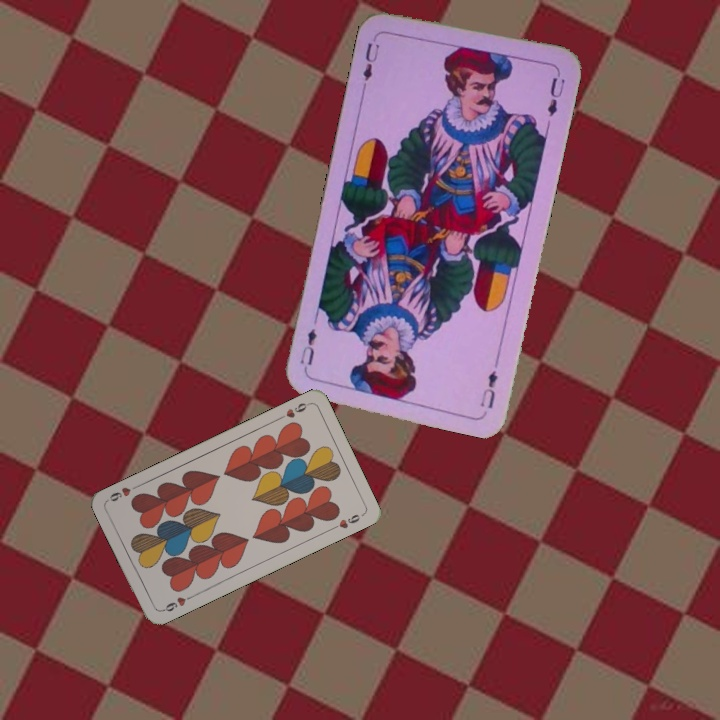EU: (358, 31, 382, 89), (476, 366, 501, 411)
H9: (274, 399, 312, 423), (157, 591, 196, 614)
